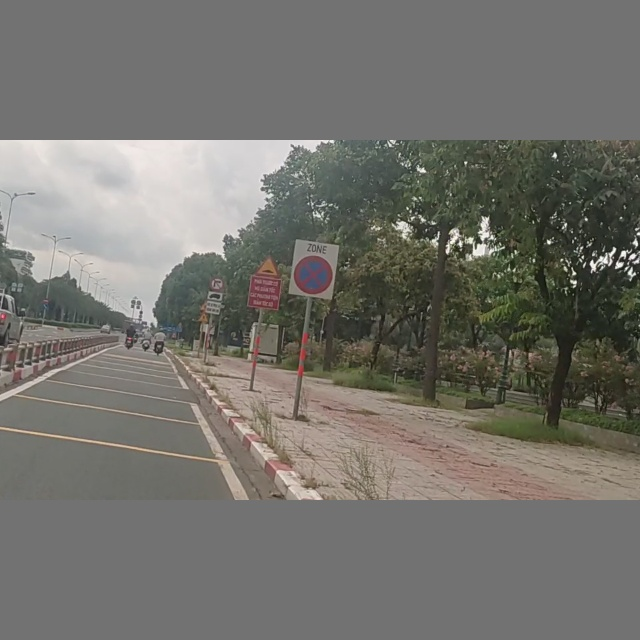P.123b: (209, 277, 224, 291)
P.130: (290, 239, 337, 297)
S.505a*Xe tai: (205, 291, 222, 315)
W.221b: (255, 255, 280, 277)
